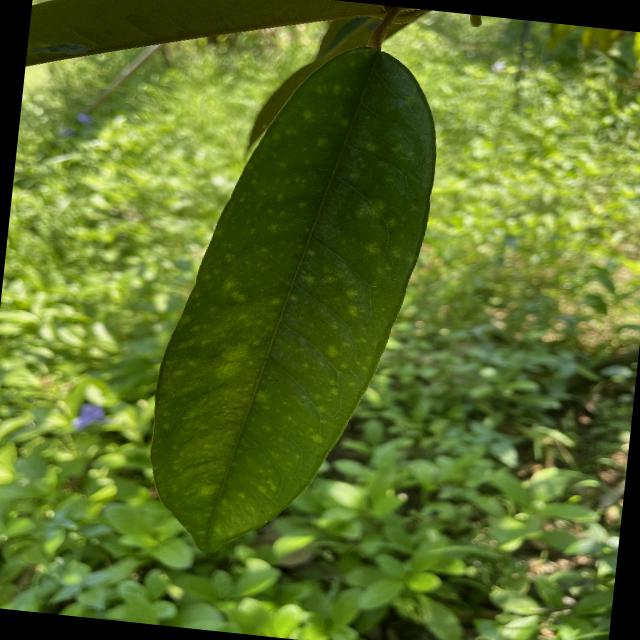Leaf Spot: (128, 27, 450, 582)
